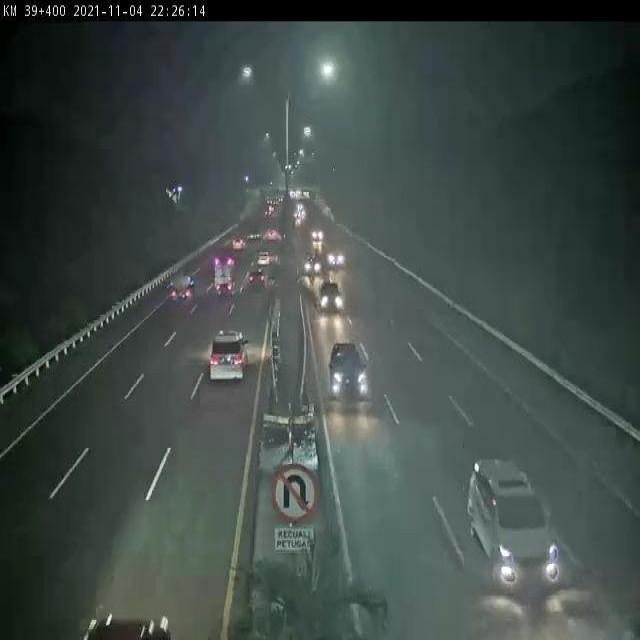car: (488, 469, 574, 603), (213, 303, 259, 401), (325, 333, 376, 418), (322, 282, 342, 314), (303, 258, 321, 278), (250, 264, 263, 289), (329, 252, 345, 269)
truck-l-: (174, 276, 192, 303)
truck-m-: (214, 259, 229, 297)
